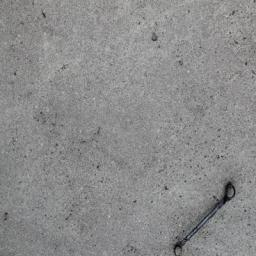FOD: (172, 181, 238, 256)
